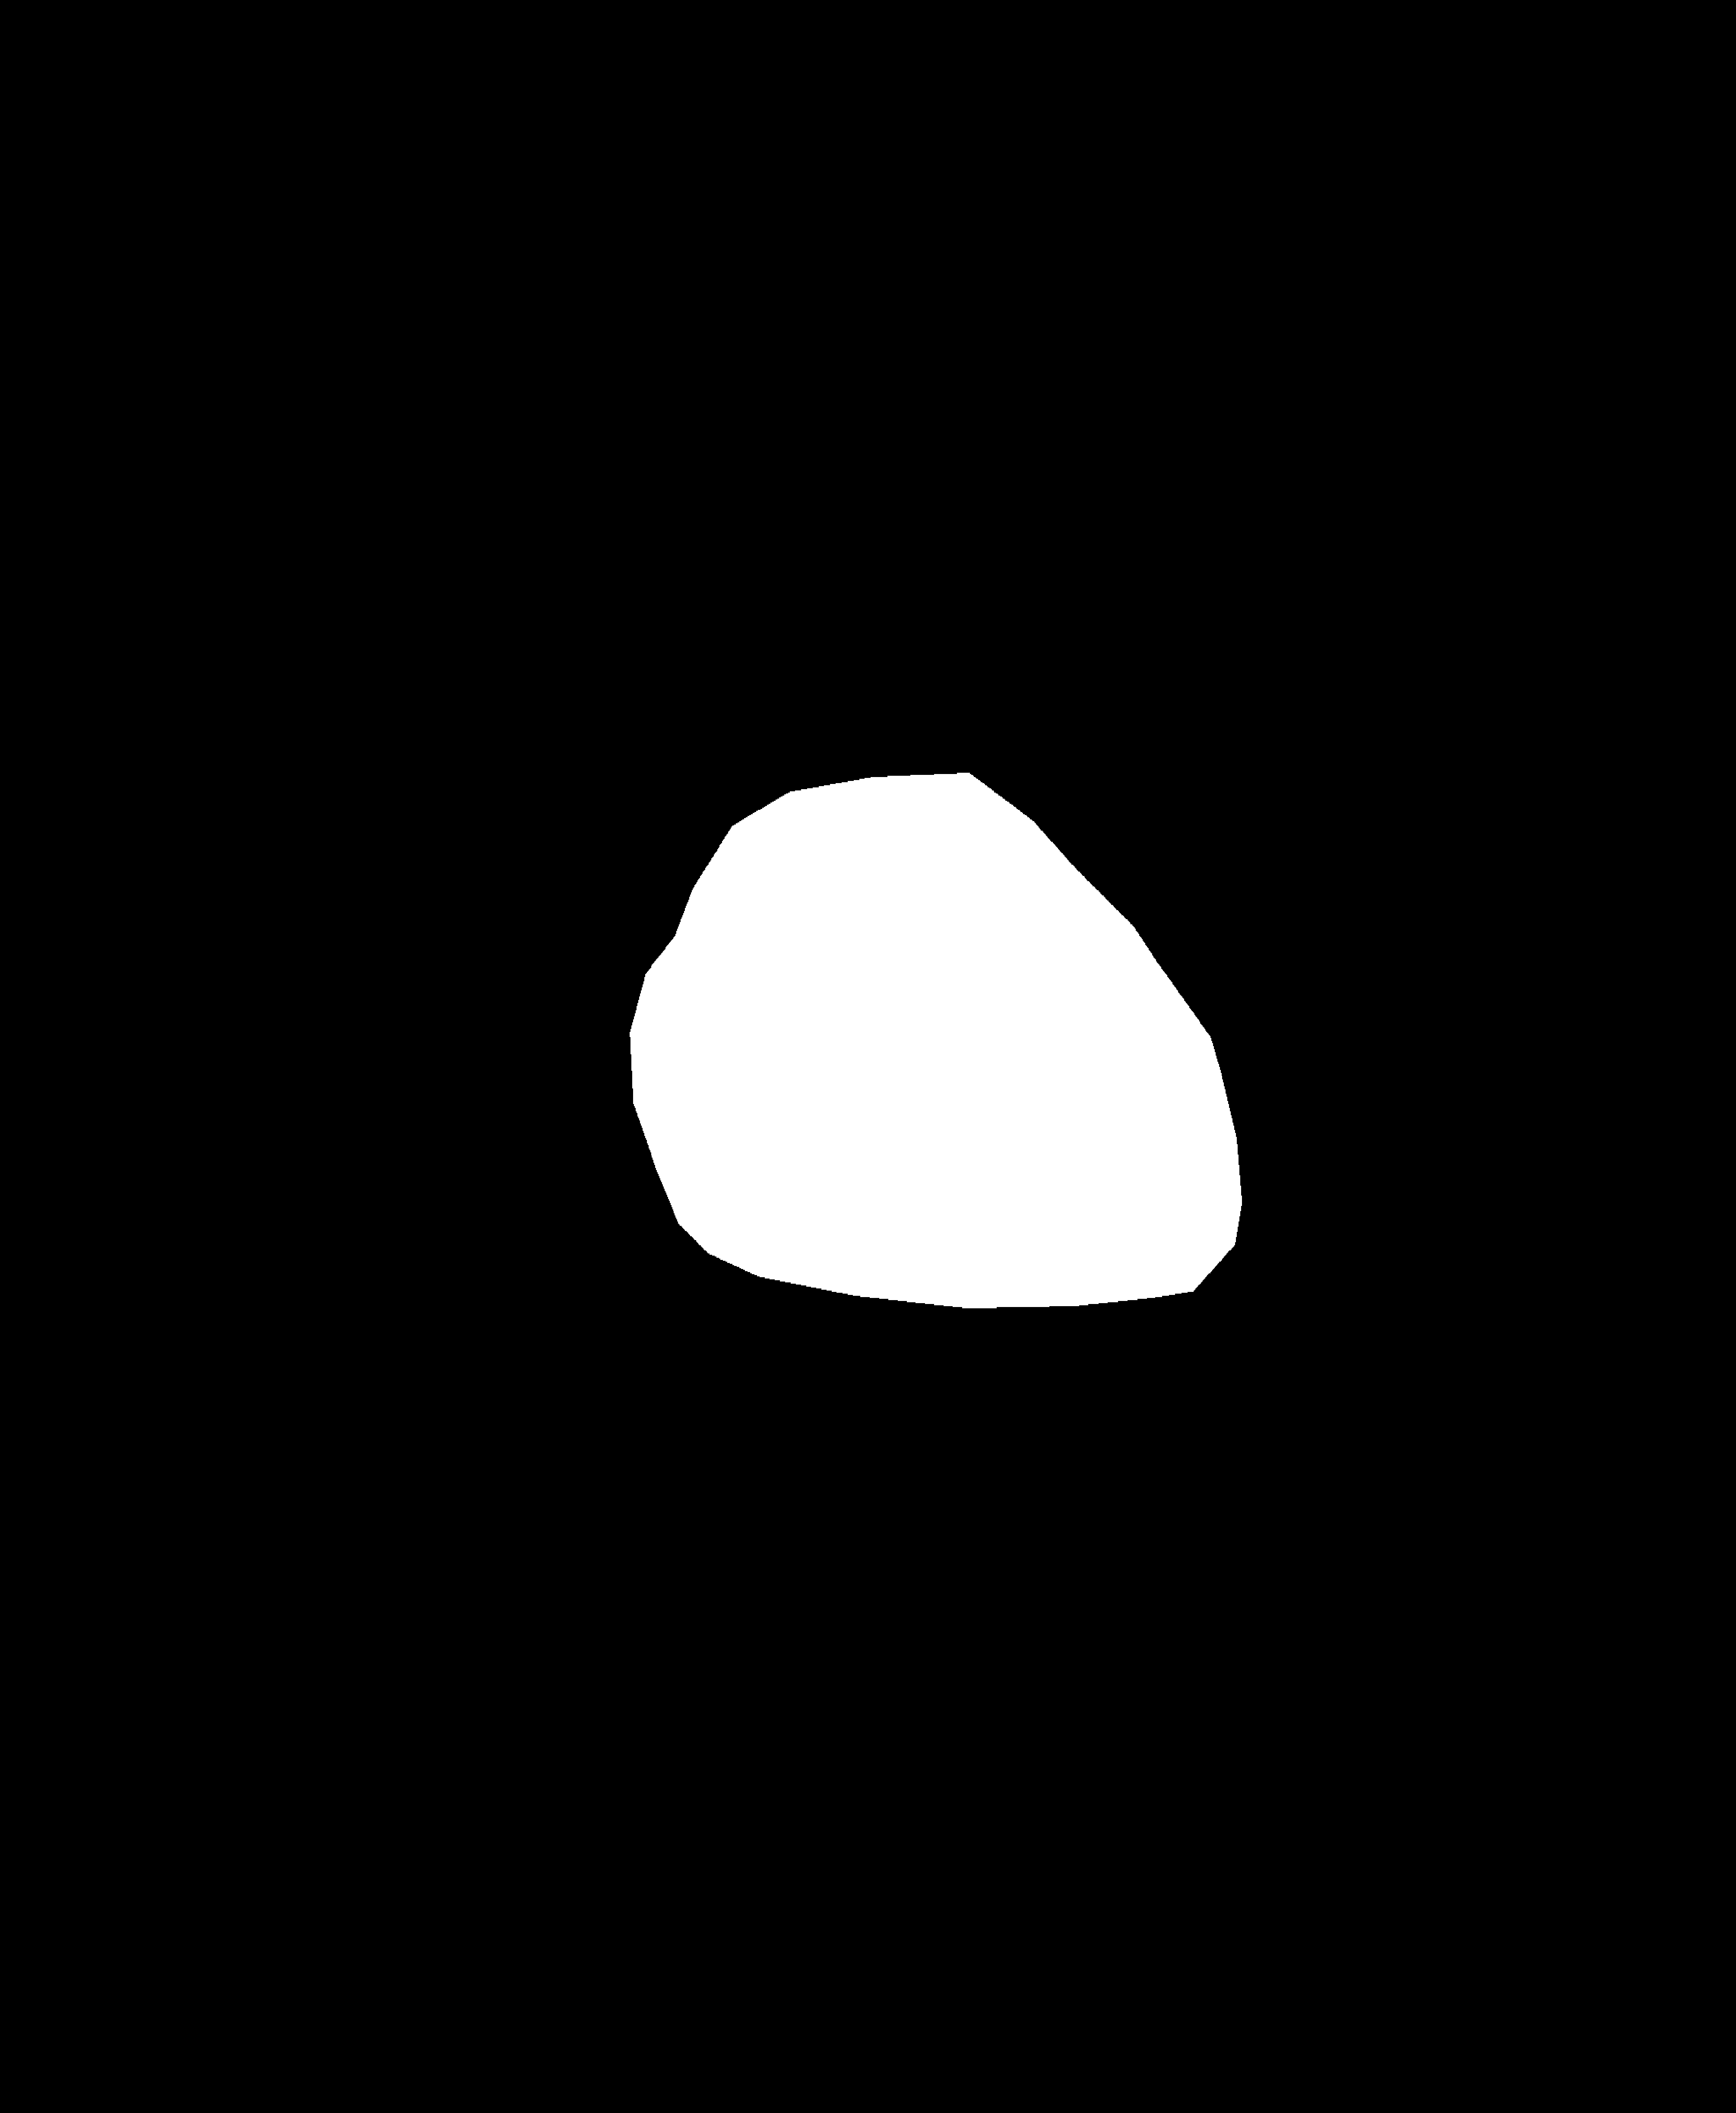heart: (632, 885, 1243, 1288)
left_lung: (177, 226, 755, 1490)
right_lung: (851, 183, 1587, 1446)
